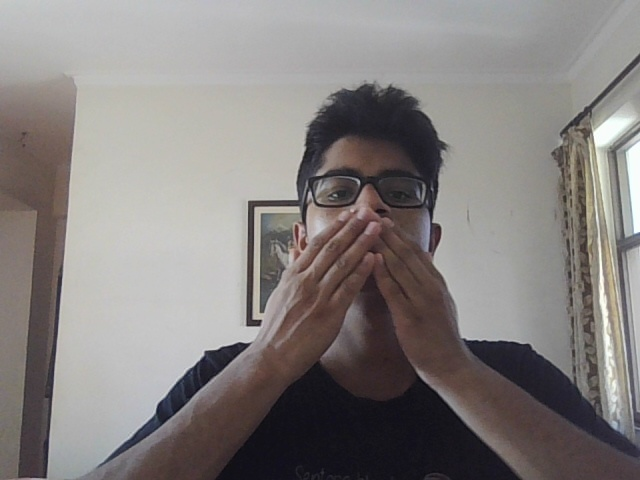ThankYou: (263, 210, 463, 379)
